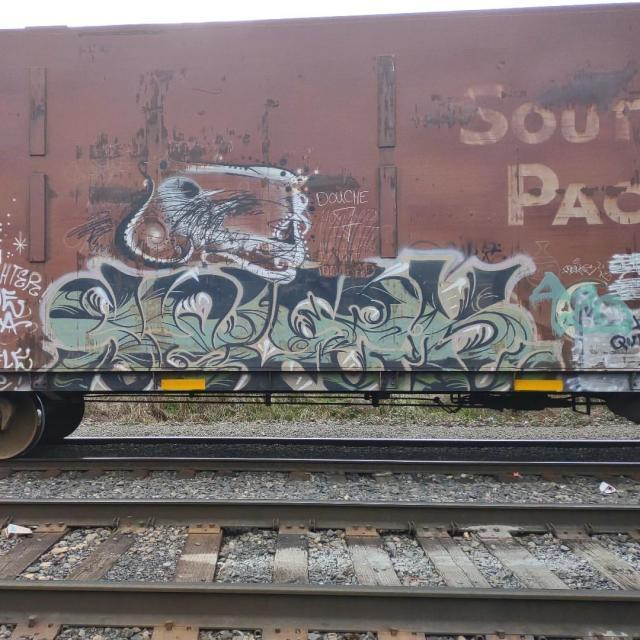nonspitting: (46, 252, 561, 390), (119, 162, 311, 284), (529, 271, 630, 338), (0, 232, 41, 390), (317, 188, 367, 242)
